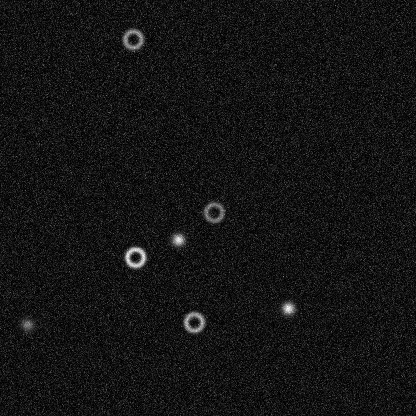Ring: (181, 310, 205, 334), (201, 200, 225, 224), (120, 27, 144, 51), (123, 245, 147, 269)
Spot: (280, 300, 296, 316), (170, 231, 186, 247), (19, 316, 35, 332)
